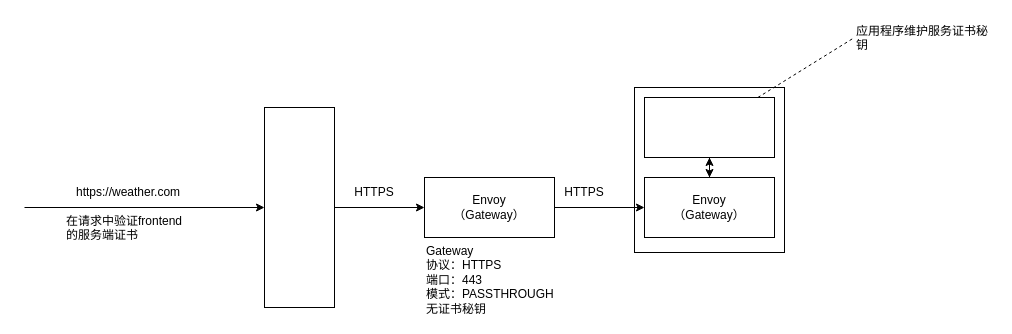
Image size: 1012x334. Some labels were removed from this diagram. The shapes that lost their labels are listed below. From the top down, each one's box as (x1, y1, x2, y2) in pixels, then its label:
(644, 96, 774, 158): frontend
(264, 106, 334, 308): 负载均衡器
